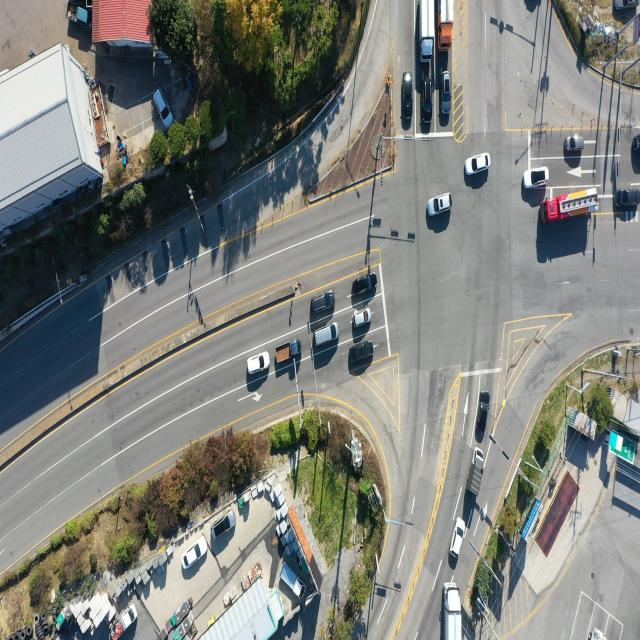car: (183, 537, 207, 573), (155, 89, 175, 130), (476, 390, 491, 441), (403, 72, 415, 130), (313, 324, 340, 349), (348, 340, 375, 365), (450, 516, 466, 558), (213, 509, 235, 538), (351, 273, 377, 297), (523, 168, 550, 190), (464, 155, 490, 177), (428, 194, 451, 218), (247, 350, 270, 374), (313, 292, 338, 314), (442, 73, 453, 120), (615, 187, 640, 207), (352, 309, 372, 328), (564, 136, 584, 152), (616, 0, 638, 11), (633, 134, 640, 154)
medium_truck: (540, 189, 599, 225), (442, 584, 463, 640), (420, 0, 437, 61), (438, 0, 453, 51)
small_truck: (468, 447, 488, 500), (278, 562, 306, 598), (110, 605, 137, 640), (275, 340, 301, 364), (66, 1, 89, 27)
